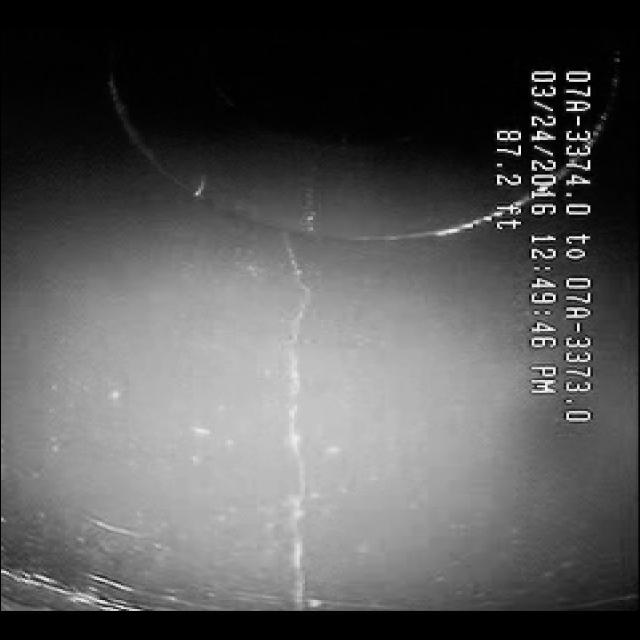Crack: (222, 252, 385, 629)
